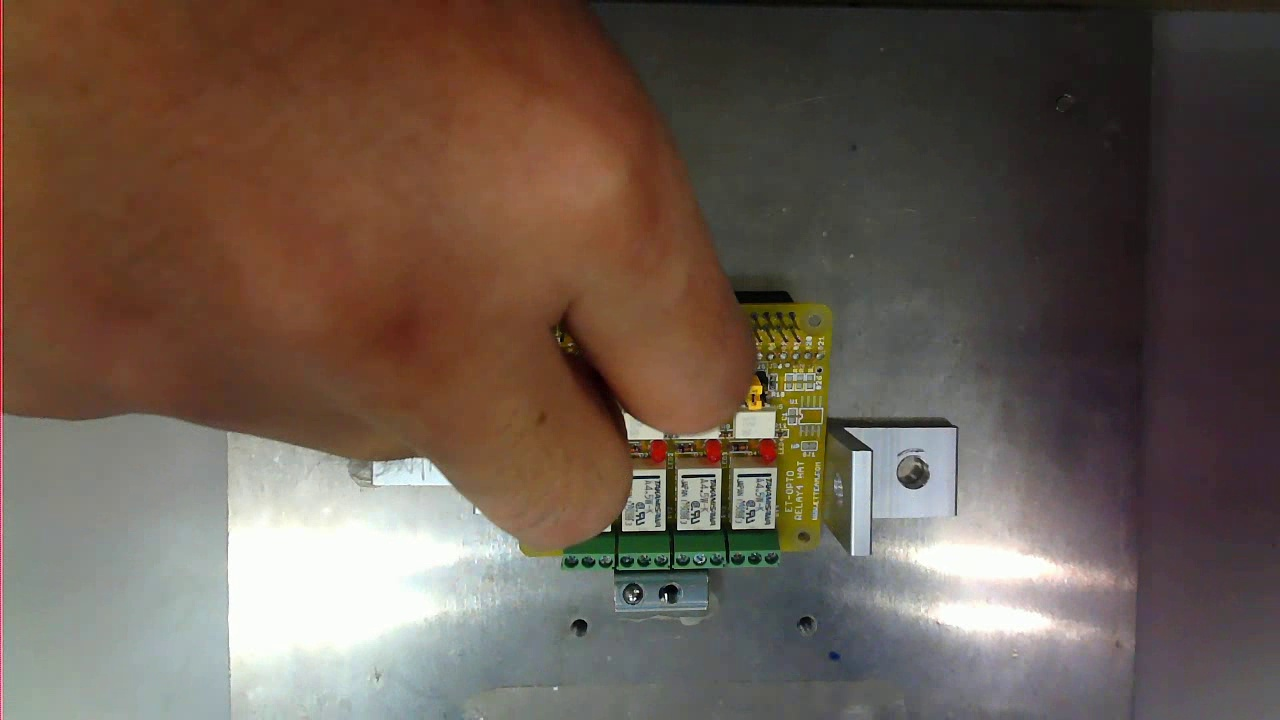can: (546, 296, 831, 570)
